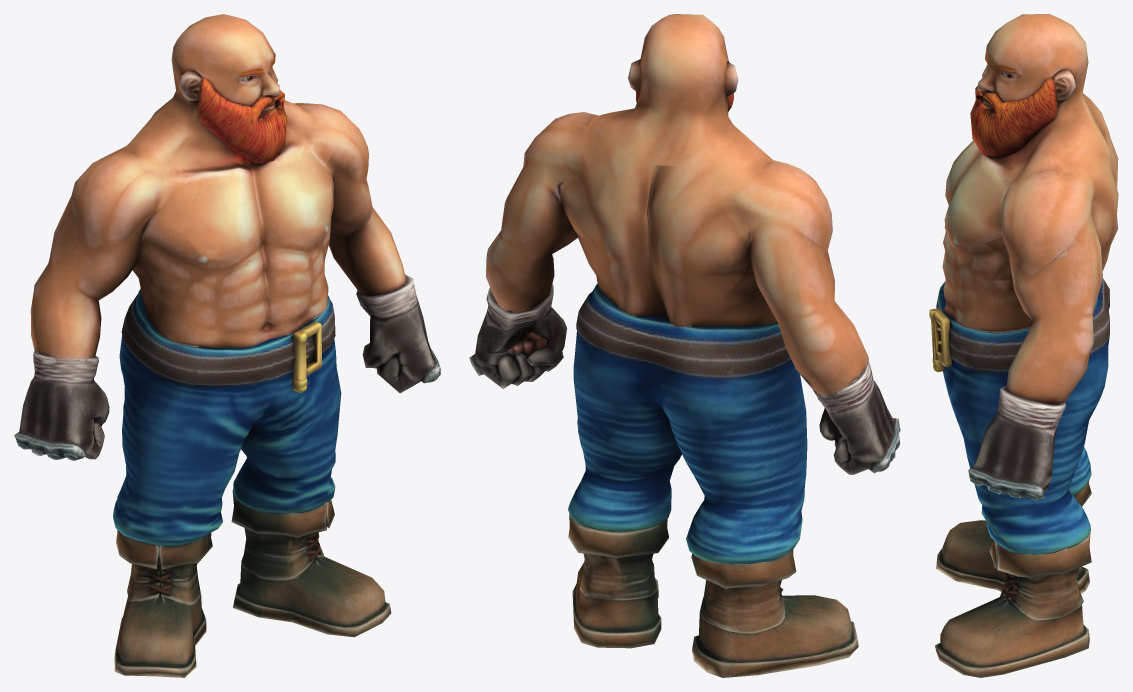
The model's file is MZ4250 - Dwarf Monk Blue.glb.
3 renders of one model, left to right at view 1: azimuth 30°, elevation 25°; view 2: azimuth 150°, elevation 25°; view 3: azimuth 270°, elevation 25°, orthographic. The views are drawn at different scales.
Visible parts, largest first — view 1: body_low.001; view 2: body_low.001; view 3: body_low.001.
Boxes of the visible parts, box(x1,y1,x2,y2) form: body_low.001: box(14, 14, 440, 677); body_low.001: box(469, 14, 900, 677); body_low.001: box(929, 14, 1118, 677).
Size of the model in its own units: 4.07 by 5.71 by 1.65.
Materials: 1 (1 with a texture image).
